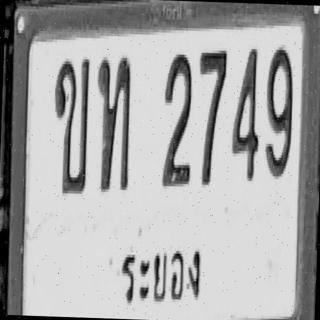A02: (51, 54, 90, 192)
A23: (94, 53, 132, 191)
N02: (161, 50, 194, 185)
N04: (230, 44, 262, 180)
N07: (196, 46, 227, 184)
N09: (264, 44, 294, 176)
P53: (115, 236, 206, 316)
